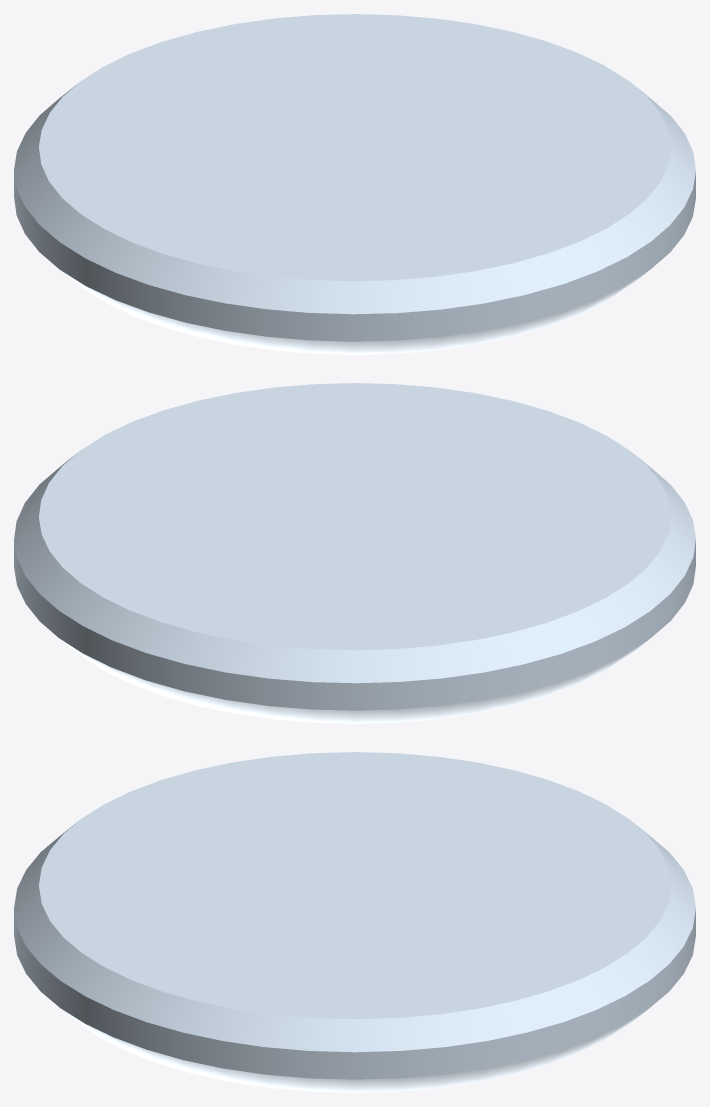
File: indoor_lamp_on.gltf
3 views of the same model, one above another, from view 1: azimuth 30°, elevation 25°; view 2: azimuth 150°, elevation 25°; view 3: azimuth 270°, elevation 25° (orthographic).
Parts seen in each view (by area): view 1: Hall.Lamp.001; view 2: Hall.Lamp.001; view 3: Hall.Lamp.001.
Part boxes in pixels (box(x1,y1,x2,y2)): Hall.Lamp.001: box(14, 14, 695, 354); Hall.Lamp.001: box(14, 383, 695, 723); Hall.Lamp.001: box(14, 752, 695, 1092).
Bounding box in the file's own units: 1.24 × 0.1502 × 1.24.
